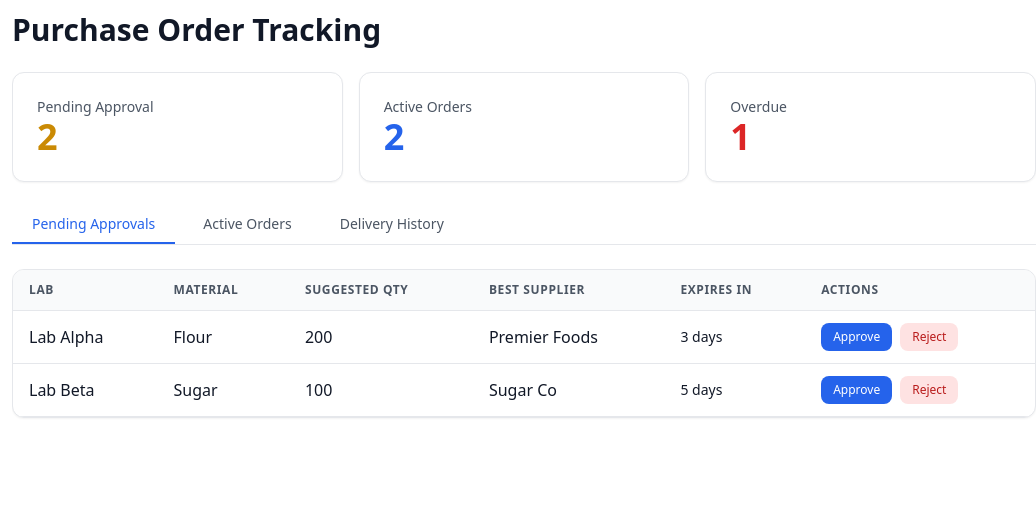
POTrackingPage — 3-tab architecture › renders Delivery History tab content when clicked
The image size is (1036, 515).
Step 1. Click the tab "Delivery History" → click(392, 225), box x1=320 y1=206 x2=464 y2=244
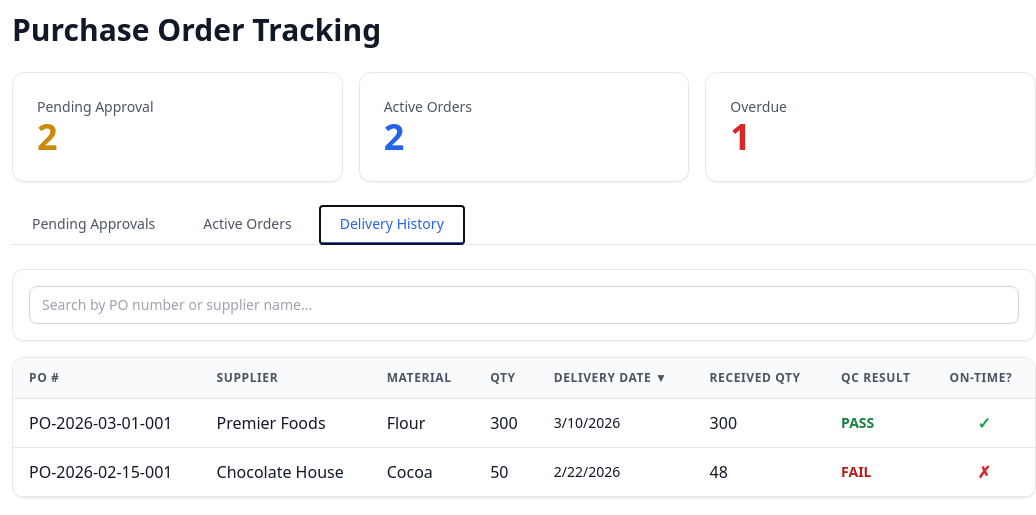
Now the text "PO-2026-03-01-001" is shown, box x1=13 y1=399 x2=200 y2=448
Now the text "Chocolate House" is shown, box x1=200 y1=448 x2=371 y2=496
